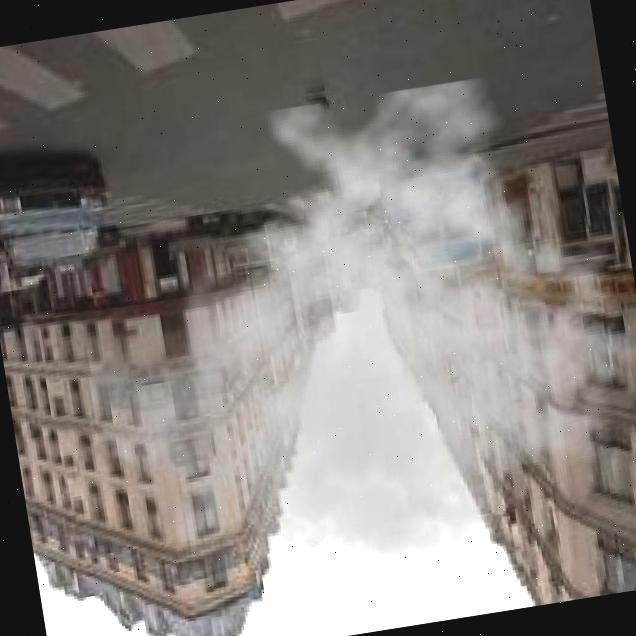smoke: (49, 58, 636, 636)
